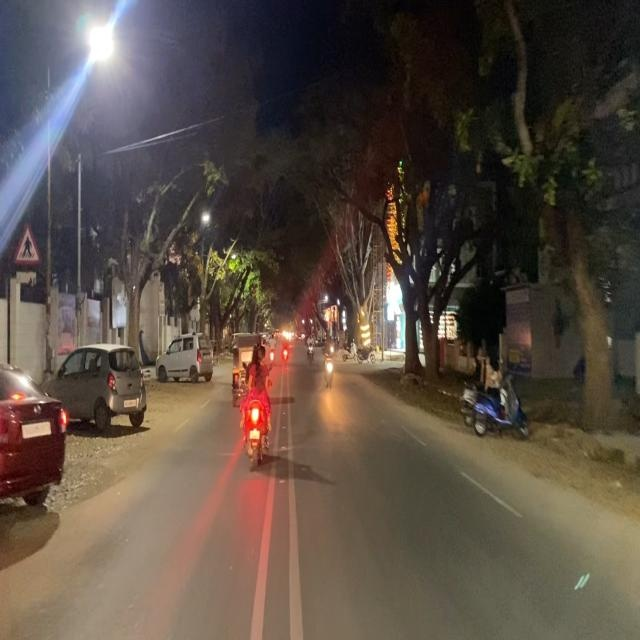bien_nguy_hiem: (13, 220, 41, 267)
